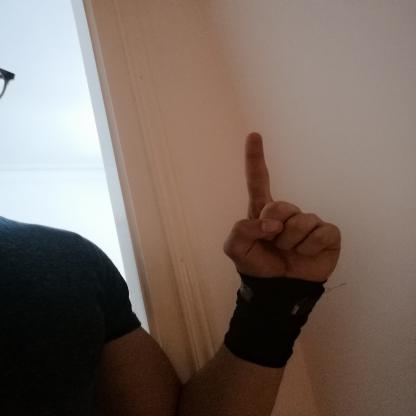BAA: (210, 121, 349, 298)
